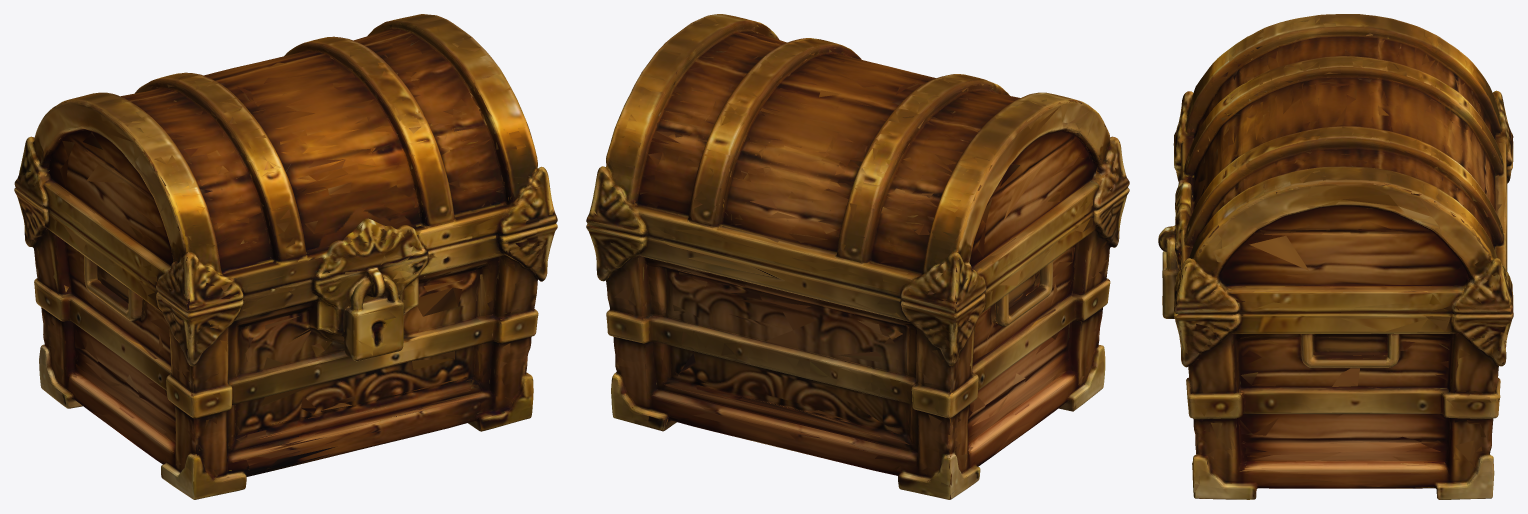
File: treasure-chest.glb
3 views of the same model, side by side, from view 1: azimuth 30°, elevation 25°; view 2: azimuth 150°, elevation 25°; view 3: azimuth 270°, elevation 25° (orthographic). The views are drawn at different scales.
Visible parts, largest first — view 1: geometry_0; view 2: geometry_0; view 3: geometry_0.
Boxes of the visible parts, x1,y1,x2,y2 form: geometry_0: (14, 14, 557, 499); geometry_0: (586, 14, 1129, 499); geometry_0: (1158, 14, 1513, 499).
Size of the model in its own units: 2.32 by 2 by 1.98.
Materials: 1 (1 with a texture image).
